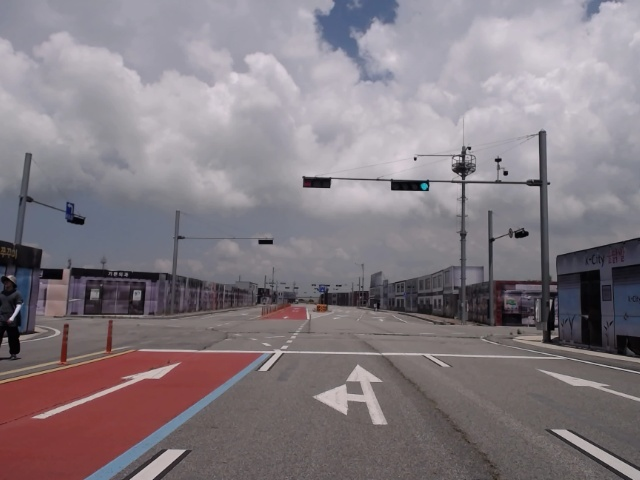straight_green_4: (392, 180, 430, 191)
